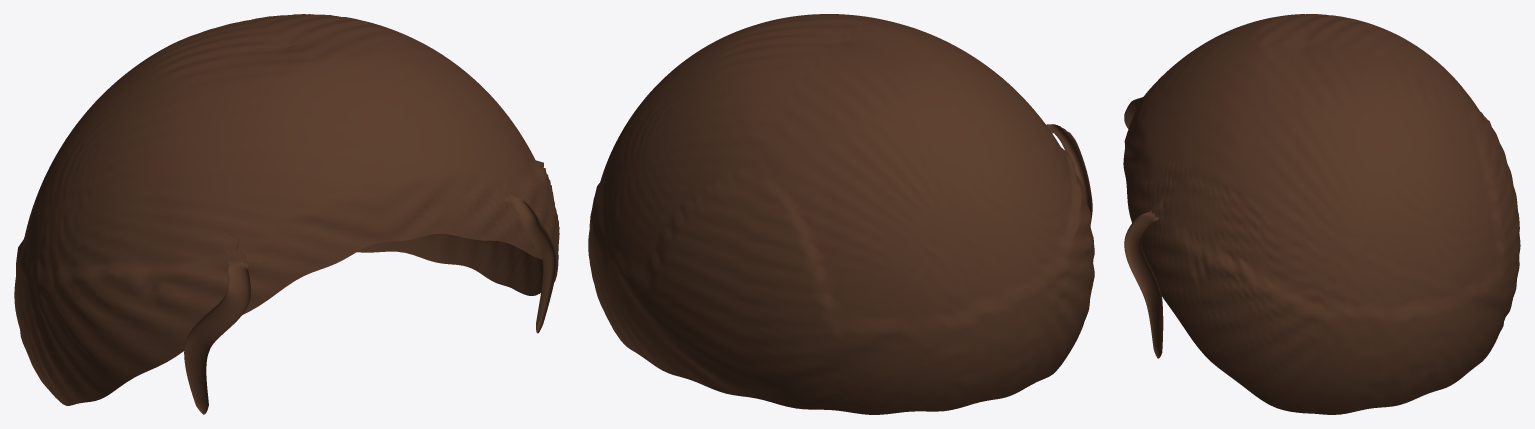
File: Highlights-593639dba017251-hair.glb
3 renders of one model, left to right at view 1: azimuth 30°, elevation 25°; view 2: azimuth 150°, elevation 25°; view 3: azimuth 270°, elevation 25°, orthographic. The views are drawn at different scales.
Parts seen in each view (by area): view 1: 226 hair / Hair / chestnut226.002; view 2: 226 hair / Hair / chestnut226.002; view 3: 226 hair / Hair / chestnut226.002.
Boxes of the visible parts, bbox=[...] form: 226 hair / Hair / chestnut226.002: bbox=[14, 14, 559, 414]; 226 hair / Hair / chestnut226.002: bbox=[588, 14, 1094, 414]; 226 hair / Hair / chestnut226.002: bbox=[1123, 14, 1520, 414].
Size of the model in its own units: 0.9981 by 0.5988 by 0.7846.
